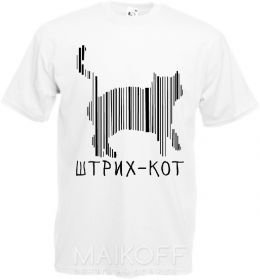cat: (70, 43, 190, 159)
